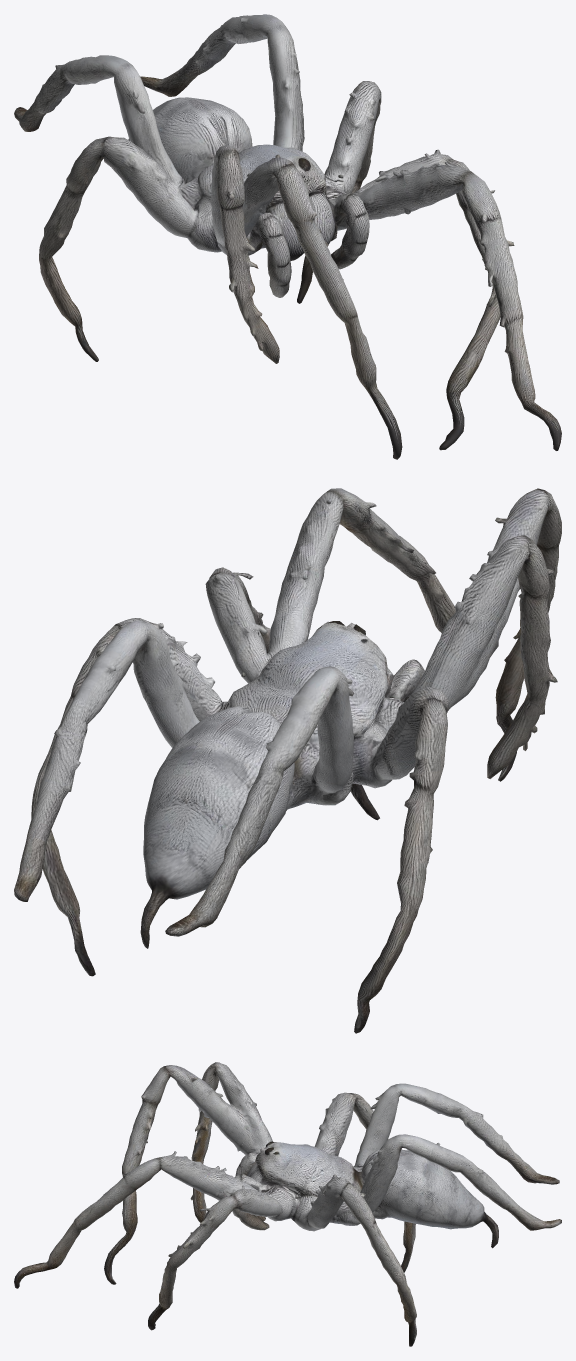
The model's file is spider.glb.
3 renders of one model, top to bottom at view 1: azimuth 30°, elevation 25°; view 2: azimuth 150°, elevation 25°; view 3: azimuth 270°, elevation 25°, orthographic. The views are drawn at different scales.
Parts seen in each view (by area): view 1: Mesh_0; view 2: Mesh_0; view 3: Mesh_0.
Boxes of the visible parts, x1,y1,x2,y2 form: Mesh_0: (14,14,561,459); Mesh_0: (14,488,561,1033); Mesh_0: (14,1062,561,1346).
Bounding box in the file's own units: 0.8885 × 0.8376 × 1.91.
Materials: 1 (1 with a texture image).
